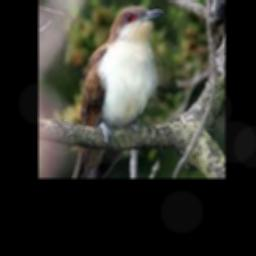Cuckoo: (71, 6, 163, 177)
